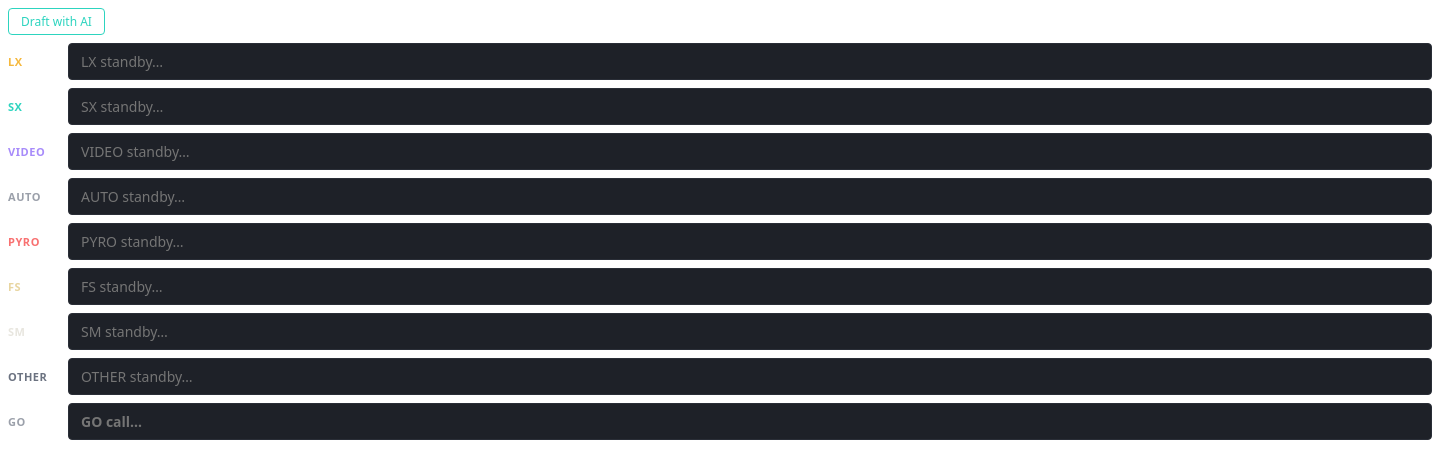
Test: CallerLinesEditor — Draft with AI › clicking "Draft with AI" shows loading state while pending
What coordinates should you click on to do the following:
click the button with test id "caller-ai-draft-btn"
I would click on:
 (56, 22)
Its box is [8,8,105,35].
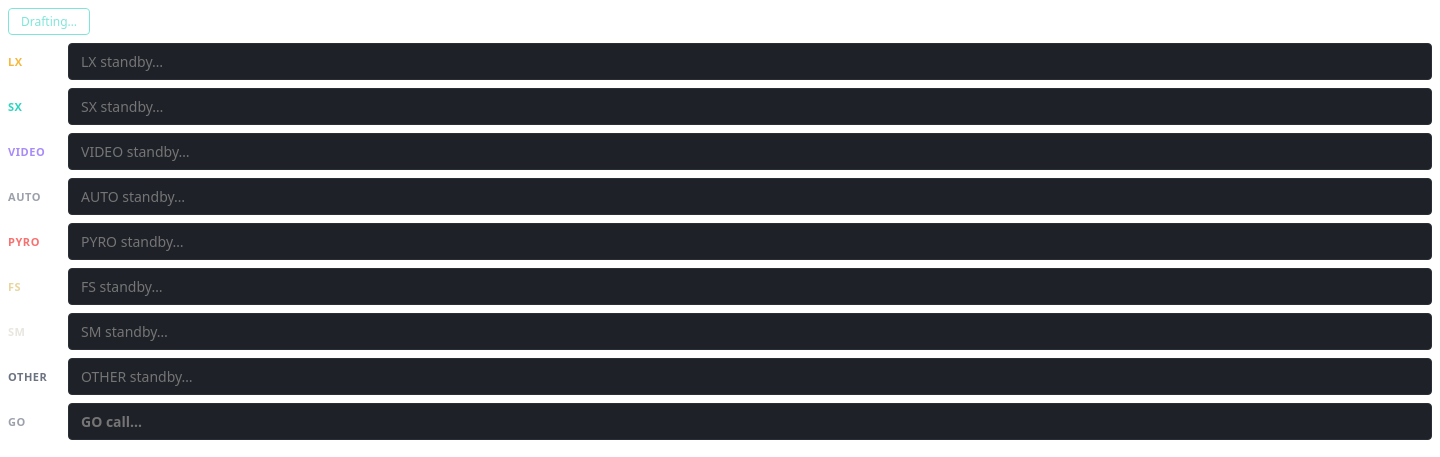
Result: the button with test id "caller-ai-draft-btn" reads "Drafting…" at [8,8,90,35]
